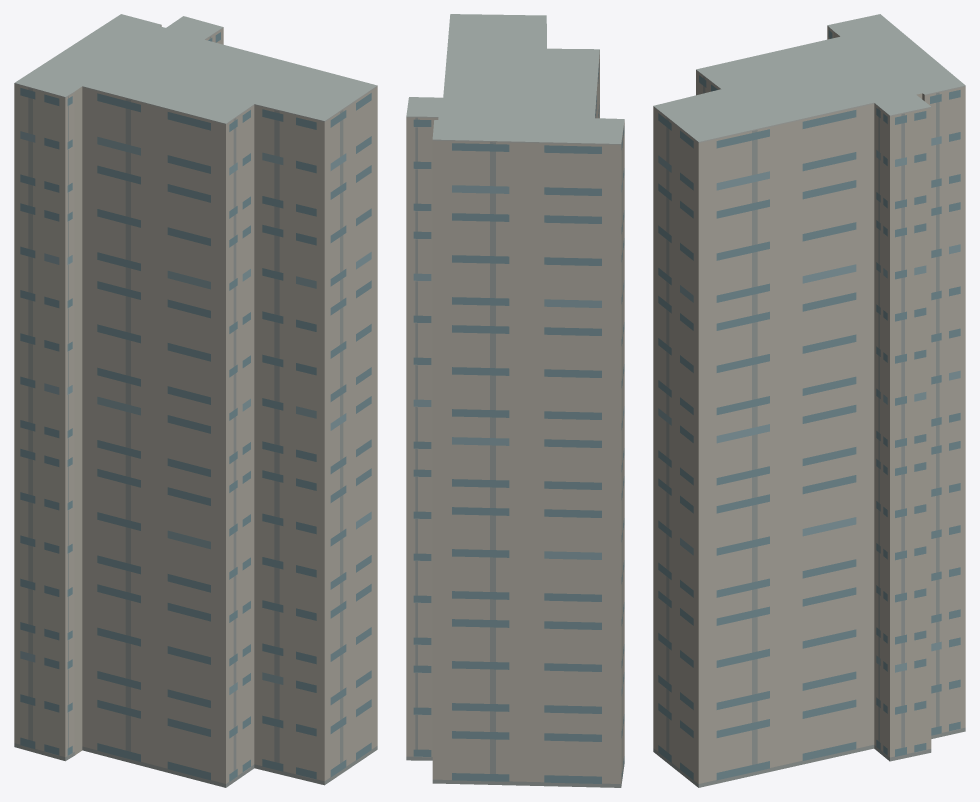
File: survey-upis-32833818.glb
3 renders of one model, left to right at view 1: azimuth 30°, elevation 25°; view 2: azimuth 150°, elevation 25°; view 3: azimuth 270°, elevation 25°, orthographic. The views are drawn at different scales.
Visible parts, largest first — view 1: survey-upis-32833818.tmp; view 2: survey-upis-32833818.tmp; view 3: survey-upis-32833818.tmp.
Boxes of the visible parts, <box> form: survey-upis-32833818.tmp: <box>14,14,377,787</box>; survey-upis-32833818.tmp: <box>406,14,624,787</box>; survey-upis-32833818.tmp: <box>653,14,965,787</box>.
Bounding box in the file's own units: 59.64 × 140 × 61.52.
